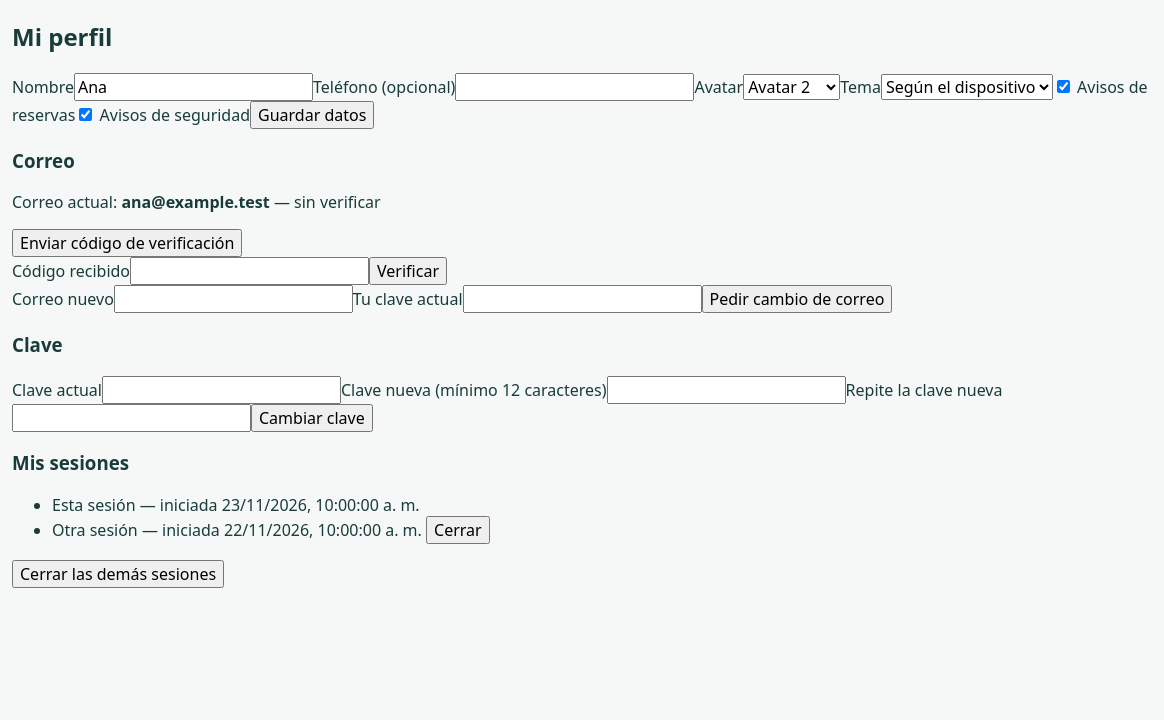
Test case: F01.1 US5: pantalla «Mi perfil» › carga los datos y guarda solo los seis campos propios; no muestra roles ni permisos
Expected: the field labelled "Nombre" holds "Ana", [74, 73, 313, 101]
In the field labelled "Teléfono (opcional)": (575, 87) [455, 73, 694, 101], type "+51 999 111 222"
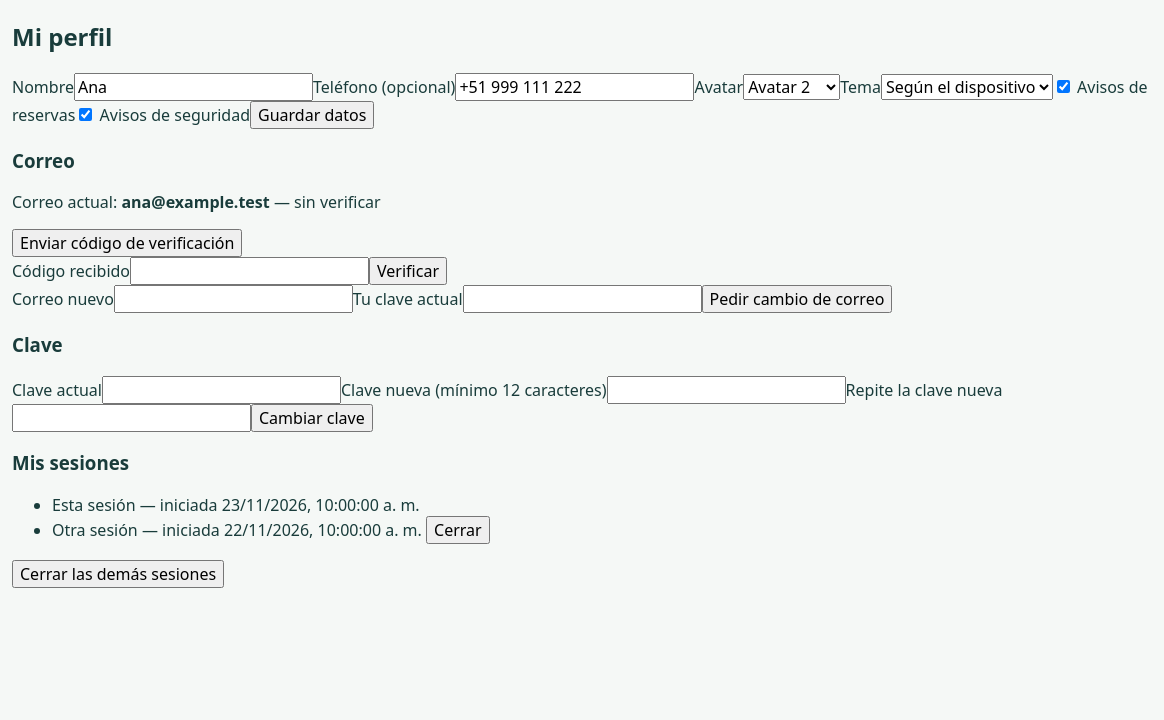
Select "Oscuro" in the dropdown labelled "Tema": (967, 87) [881, 74, 1053, 100]
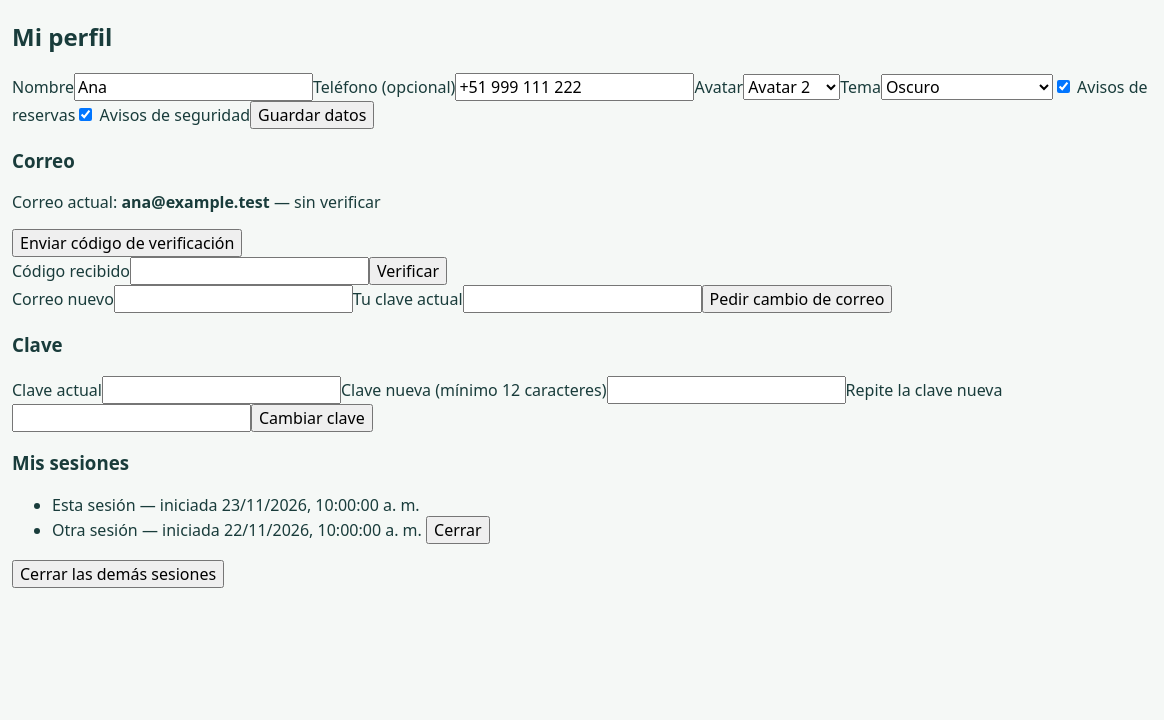
Click the checkbox labelled "Avisos de reservas": (1063, 86) [1057, 80, 1070, 93]
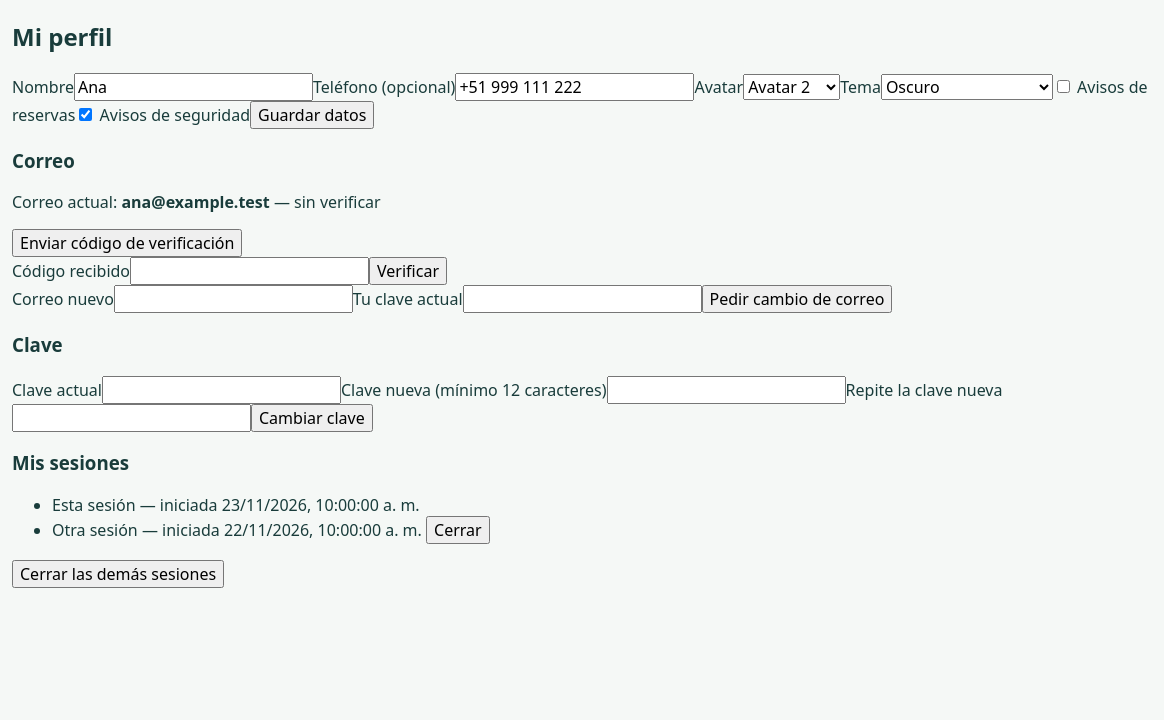
Submit the text "Guardar datos", box [12, 73, 1163, 129]
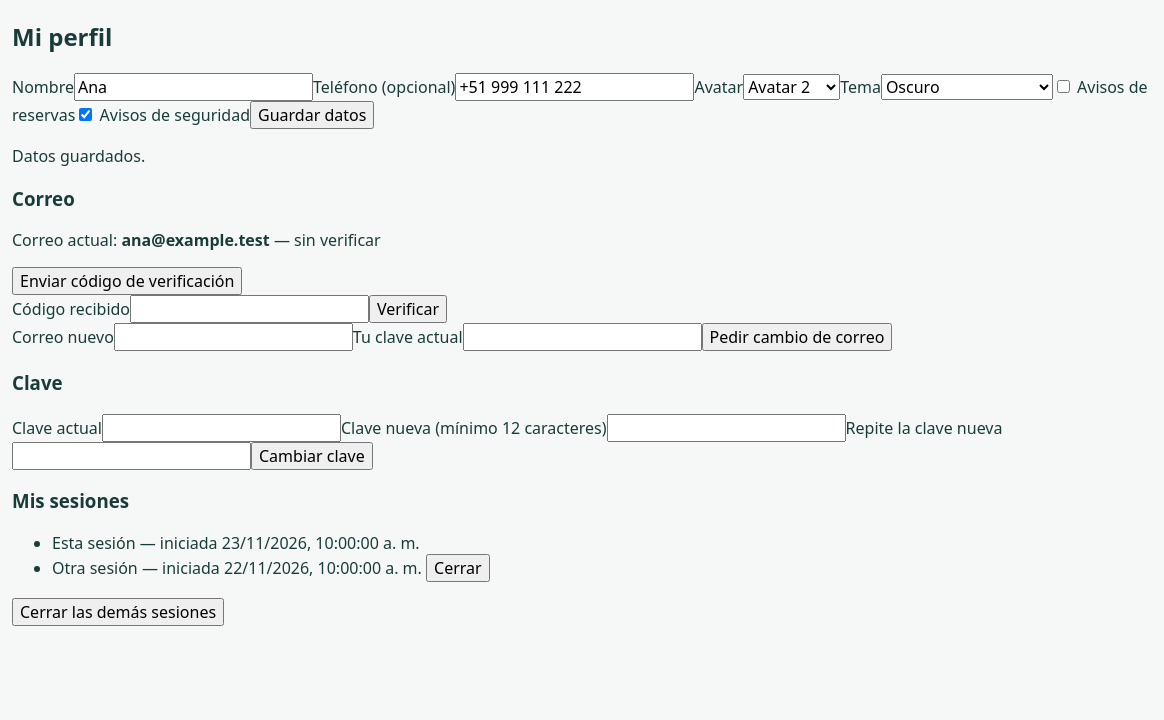
Expected: the text "Datos guardados." is shown, [12, 145, 145, 167]
